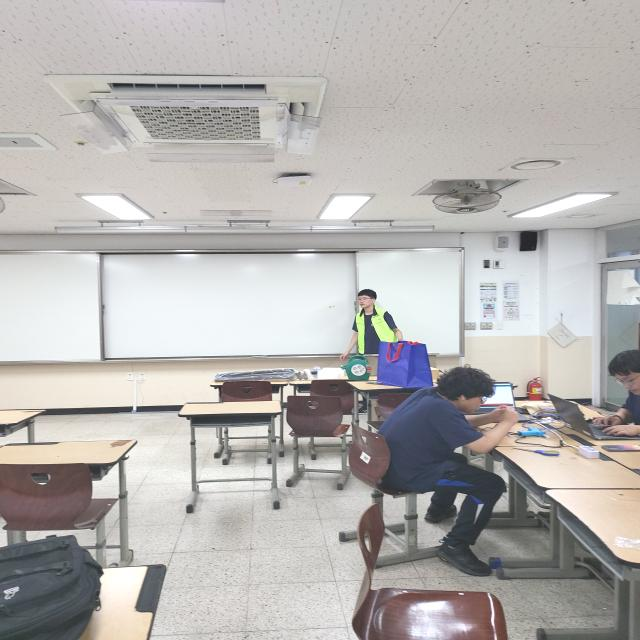weston_spy: (348, 308, 407, 356)
